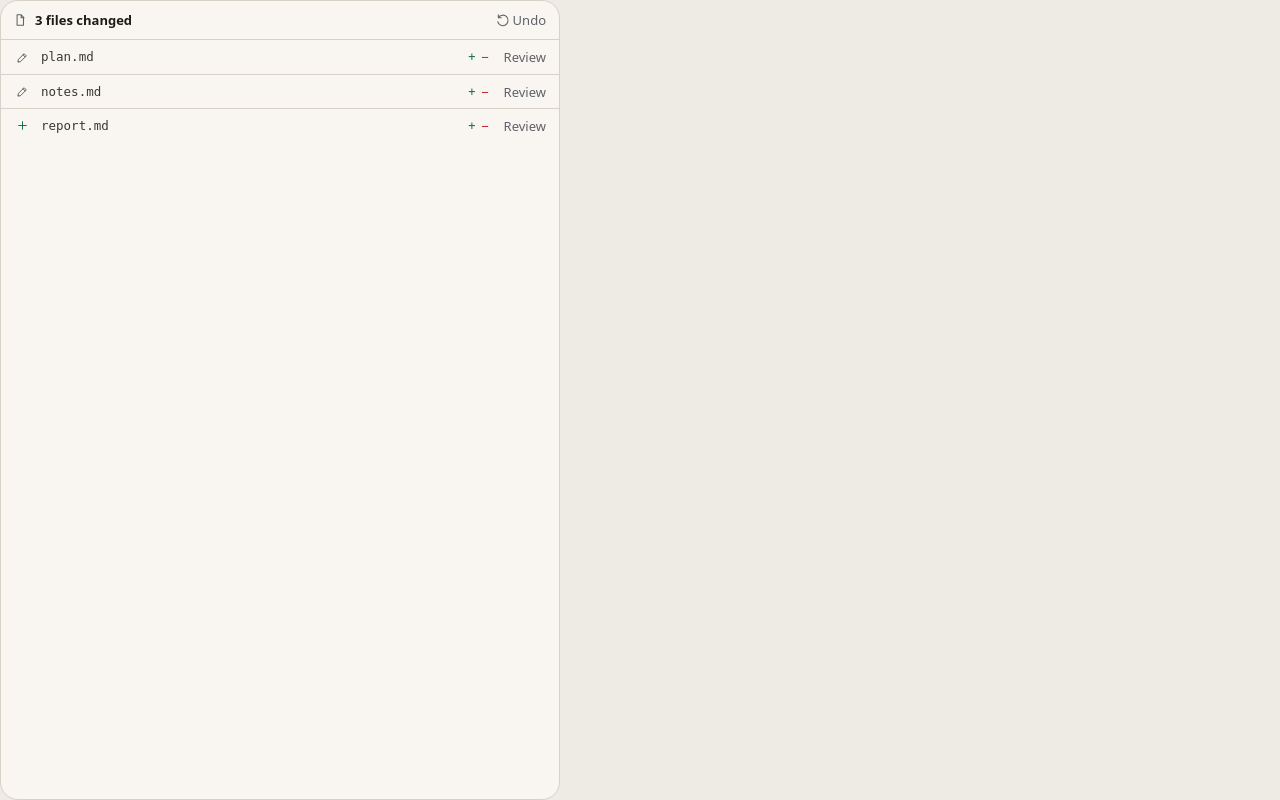
Test: the files a turn changed › of a turn that also kept something in memory › says after the undo which entry memory left kept, and why
The width and height of the screenshot is (1280, 800).
Click the button with aria-label "Undo these changes": coordinates (521, 20) [491, 7, 551, 33]
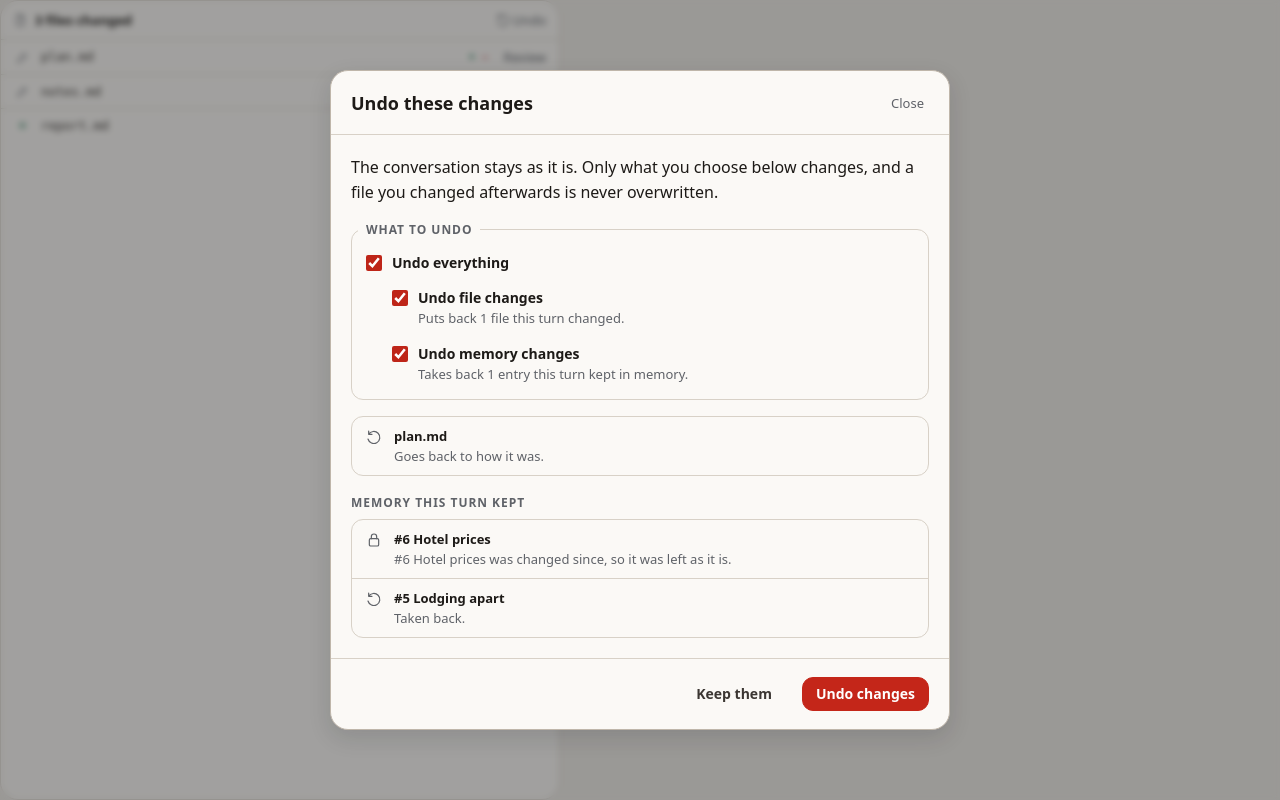
Click the button "Undo changes": coordinates (865, 694) [802, 677, 929, 711]
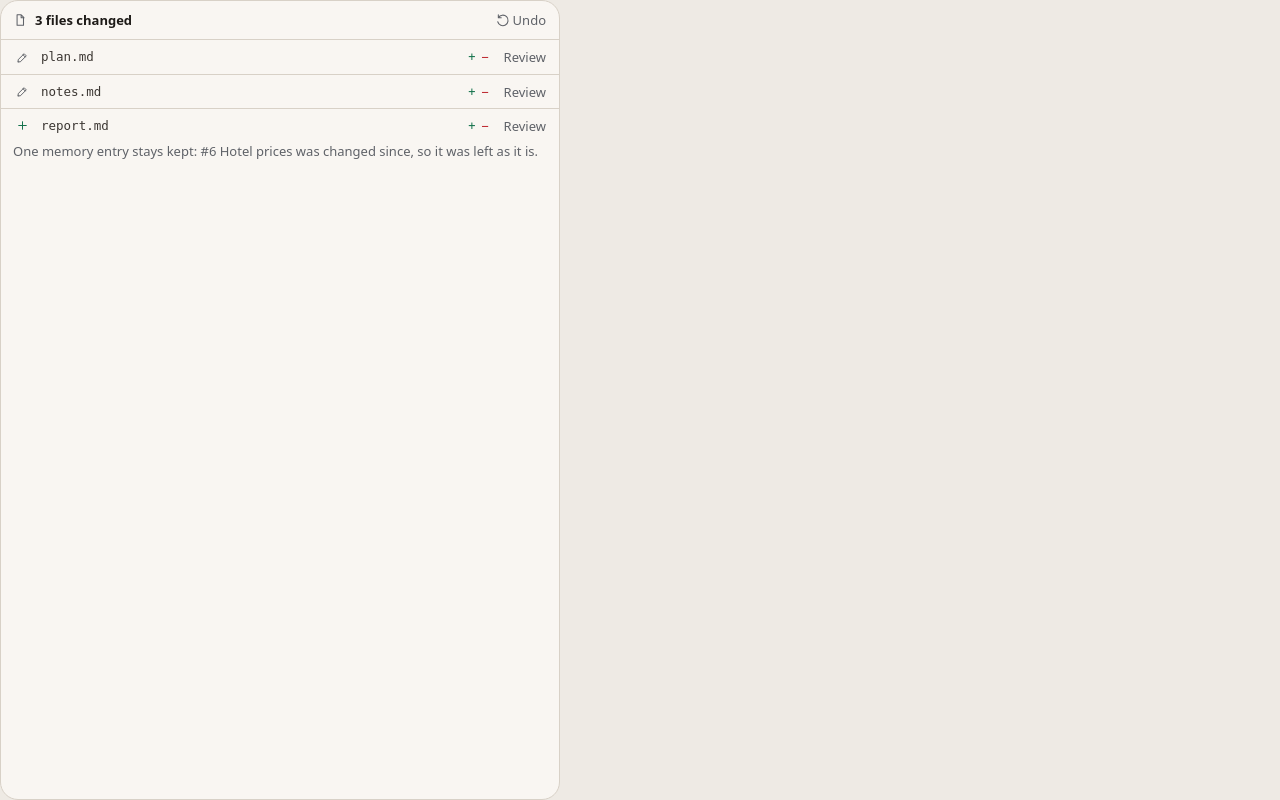
Now the message shows "One memory entry stays kept: #6 Hotel prices was changed since, so it was left as it is.", box [13, 142, 538, 160]
